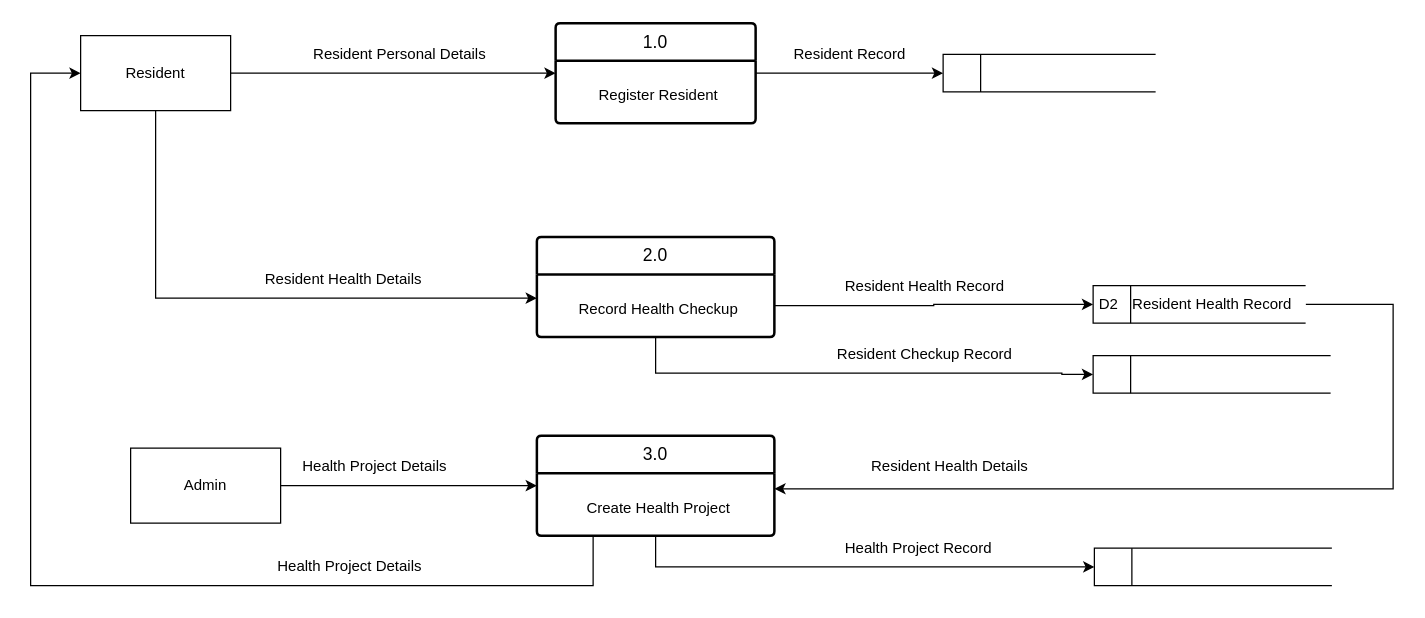
Image size: 1425x618. Some labels were removed from this diagram. Here are the shapes that lost their labels. From the top down, the centre of each, then its label:
point 1049,72: D1 Resident Record
point 1211,373: D3 Resident Checkup Record
point 1212,566: D4 Health Project Record
